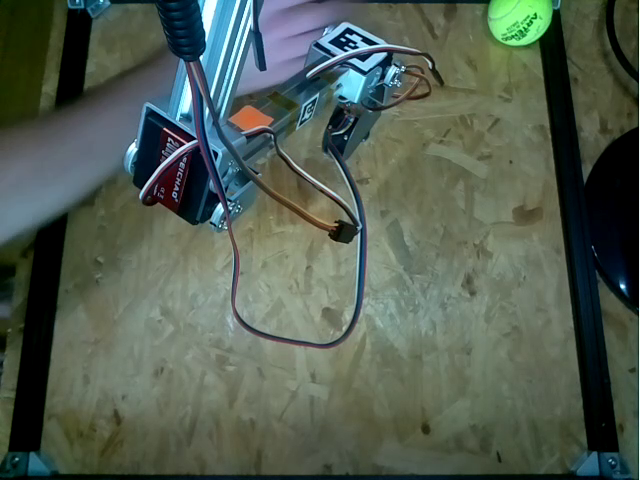tennis_ball: (487, 1, 554, 46)
